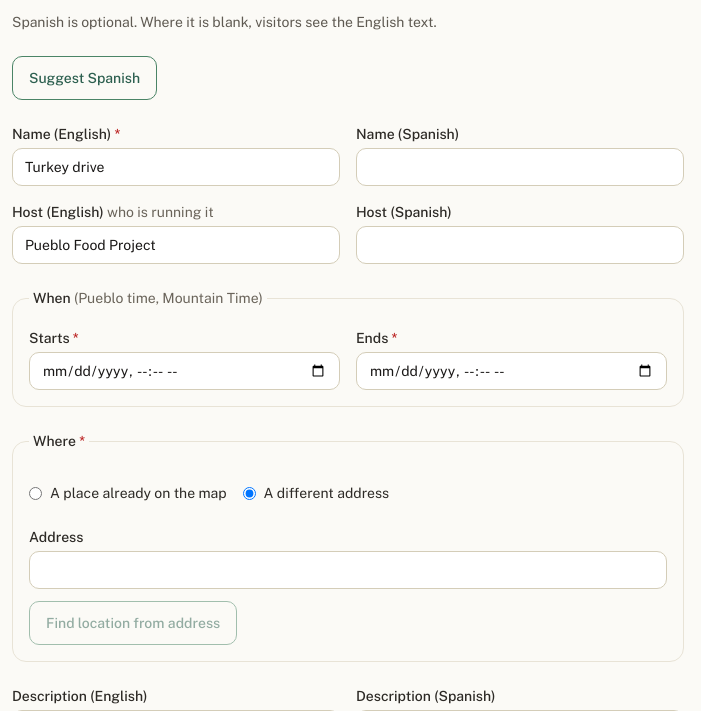
Test: Suggest Spanish › English edited while the request is in flight: that field's Spanish is not filled, the others are
Click the button "Suggest Spanish".
click(85, 78)  # box [12, 56, 157, 100]
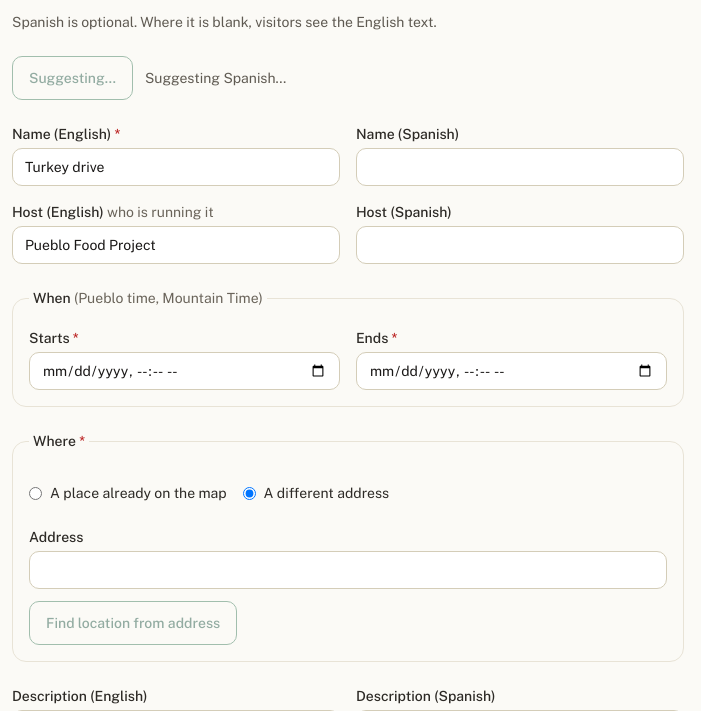
Replace the text in the field labelled "Name (English) *" with "Pie drive" at (176, 167), box [12, 148, 340, 186]
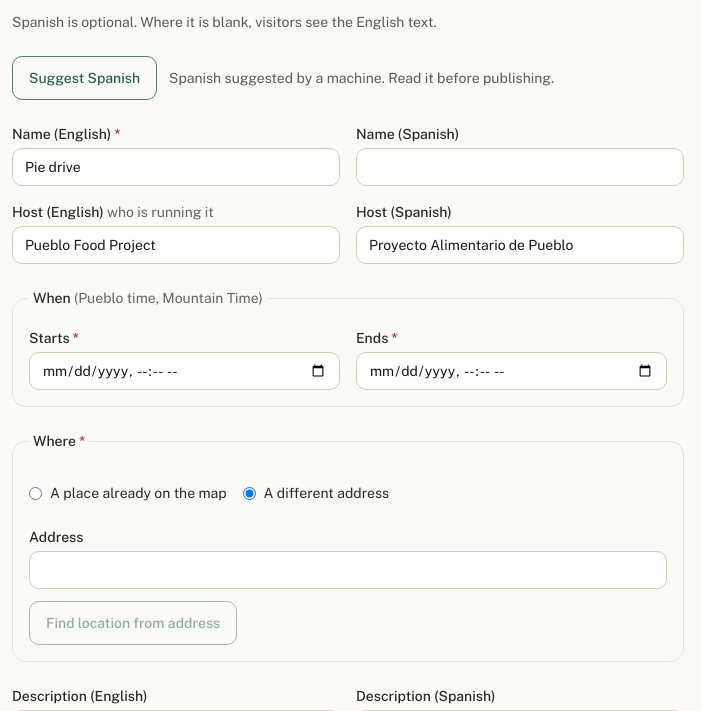
Expected: the field labelled "Name (Spanish)" is empty, [356, 148, 684, 186]
Now the field labelled "Host (Spanish)" holds "Proyecto Alimentario de Pueblo", box [356, 226, 684, 264]
